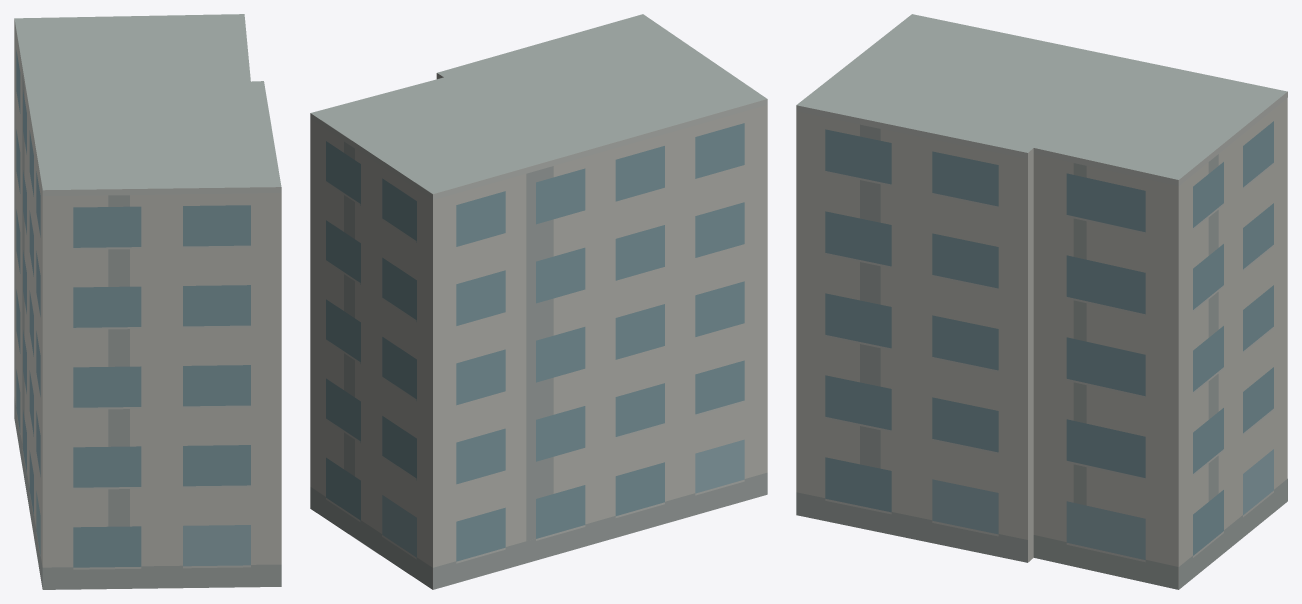
File: survey-upis-32727012.glb
The picture shows the model from 3 angles, left to right: view 1: azimuth 30°, elevation 25°; view 2: azimuth 150°, elevation 25°; view 3: azimuth 270°, elevation 25°; orthographic projection. The views are drawn at different scales.
Parts seen in each view (by area): view 1: survey-upis-32727012.tmp; view 2: survey-upis-32727012.tmp; view 3: survey-upis-32727012.tmp.
Part boxes in pixels (x1,y1,x2,y2): survey-upis-32727012.tmp: [14, 14, 281, 589]; survey-upis-32727012.tmp: [310, 14, 767, 589]; survey-upis-32727012.tmp: [796, 14, 1287, 589].
Bounding box in the file's own units: 13.82 × 15.9 × 17.29.
